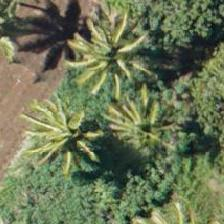coconut_tree: (51, 90, 141, 180), (104, 79, 194, 169), (45, 0, 135, 89)
